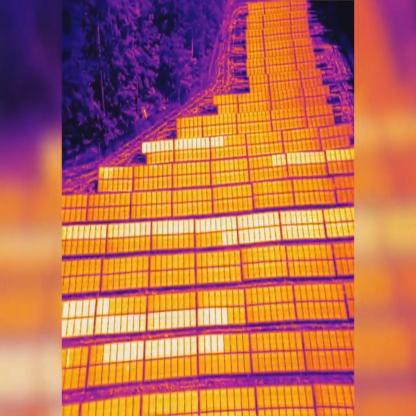diode: (69, 317, 78, 336), (103, 344, 111, 364), (158, 341, 166, 358), (74, 300, 82, 317), (205, 335, 212, 354), (191, 334, 197, 356), (185, 336, 192, 354), (199, 335, 205, 355), (166, 309, 172, 329), (88, 300, 96, 315), (96, 299, 104, 314), (82, 300, 89, 317), (132, 341, 138, 360), (154, 311, 160, 330), (128, 316, 134, 335), (64, 320, 71, 336), (212, 336, 218, 354), (172, 340, 178, 358), (164, 340, 170, 358), (145, 343, 151, 361), (170, 309, 176, 327), (67, 302, 74, 317), (102, 299, 109, 314), (117, 344, 123, 361), (125, 343, 131, 360), (210, 308, 216, 325), (188, 309, 194, 326), (115, 317, 121, 334), (167, 218, 174, 232), (339, 210, 346, 224), (282, 226, 289, 240), (178, 338, 184, 354), (216, 308, 222, 324), (204, 309, 210, 325), (314, 224, 320, 240), (323, 210, 329, 226), (327, 223, 333, 239), (135, 315, 140, 334), (102, 316, 107, 335), (153, 342, 158, 360), (160, 310, 165, 328), (122, 317, 127, 335), (78, 223, 84, 238), (218, 335, 223, 352), (79, 320, 85, 334), (65, 223, 71, 237), (174, 218, 180, 232), (250, 229, 256, 243), (244, 229, 250, 243), (316, 210, 322, 224), (222, 308, 227, 324), (182, 310, 187, 326), (176, 310, 181, 326), (339, 222, 344, 238), (72, 224, 78, 237), (96, 316, 100, 335), (129, 222, 134, 237), (276, 226, 281, 241), (304, 226, 309, 241), (138, 342, 142, 360), (112, 344, 116, 362), (117, 225, 123, 237), (148, 313, 152, 331), (86, 317, 90, 335), (134, 224, 140, 236), (190, 218, 196, 230), (227, 219, 233, 231), (254, 231, 260, 243), (298, 227, 304, 239), (89, 223, 94, 237), (218, 218, 223, 232), (285, 212, 290, 226), (296, 211, 301, 225), (228, 232, 233, 246), (294, 226, 299, 240), (327, 210, 332, 224), (199, 218, 204, 232), (199, 308, 203, 325), (110, 317, 114, 334), (90, 317, 94, 334), (186, 138, 192, 149), (319, 152, 325, 163), (106, 223, 111, 236), (156, 222, 161, 235), (185, 219, 190, 232), (213, 219, 218, 232), (279, 212, 284, 225), (333, 210, 338, 223), (333, 225, 338, 238), (344, 223, 349, 236), (62, 300, 66, 316), (350, 221, 354, 237), (191, 138, 196, 150), (196, 138, 202, 148), (85, 223, 89, 238), (95, 223, 99, 238), (100, 224, 105, 236), (122, 224, 127, 236), (144, 223, 149, 235), (222, 218, 227, 230), (243, 218, 248, 230), (274, 212, 279, 224), (268, 214, 273, 226), (302, 211, 307, 223), (239, 233, 244, 245), (233, 232, 238, 244), (260, 229, 265, 241), (265, 229, 270, 241), (321, 225, 326, 237), (332, 152, 338, 162), (222, 232, 226, 247), (66, 350, 69, 369), (112, 224, 116, 238), (62, 222, 66, 236), (254, 216, 258, 230), (351, 208, 355, 222), (160, 140, 165, 151), (162, 221, 167, 232), (180, 219, 185, 230), (150, 222, 155, 233), (233, 219, 238, 230), (271, 229, 276, 240), (281, 156, 286, 167), (288, 154, 293, 165), (308, 152, 313, 163), (327, 152, 332, 163), (342, 151, 347, 162), (61, 320, 64, 338), (346, 209, 350, 222), (288, 226, 292, 239), (310, 226, 314, 239), (194, 309, 197, 326), (142, 316, 145, 333), (169, 140, 174, 150), (215, 138, 220, 148), (272, 156, 277, 166), (301, 154, 306, 164), (165, 139, 169, 151), (205, 220, 209, 232), (264, 216, 268, 228), (308, 212, 312, 224), (276, 156, 280, 168), (105, 168, 109, 180), (150, 142, 154, 153), (240, 217, 244, 228), (260, 216, 264, 227), (314, 152, 318, 163), (210, 219, 214, 230), (178, 140, 182, 150), (182, 139, 186, 149), (201, 138, 205, 148), (293, 154, 297, 164), (297, 155, 302, 163), (339, 152, 343, 162), (143, 143, 147, 153), (249, 217, 252, 230), (156, 141, 160, 150), (219, 139, 223, 148), (147, 143, 151, 152), (292, 212, 295, 224), (109, 168, 112, 179), (210, 138, 214, 146), (206, 138, 209, 148), (349, 152, 352, 162), (314, 212, 316, 225), (140, 222, 142, 234), (174, 141, 176, 150), (352, 152, 354, 160)
hotspot: (102, 168, 105, 173)
